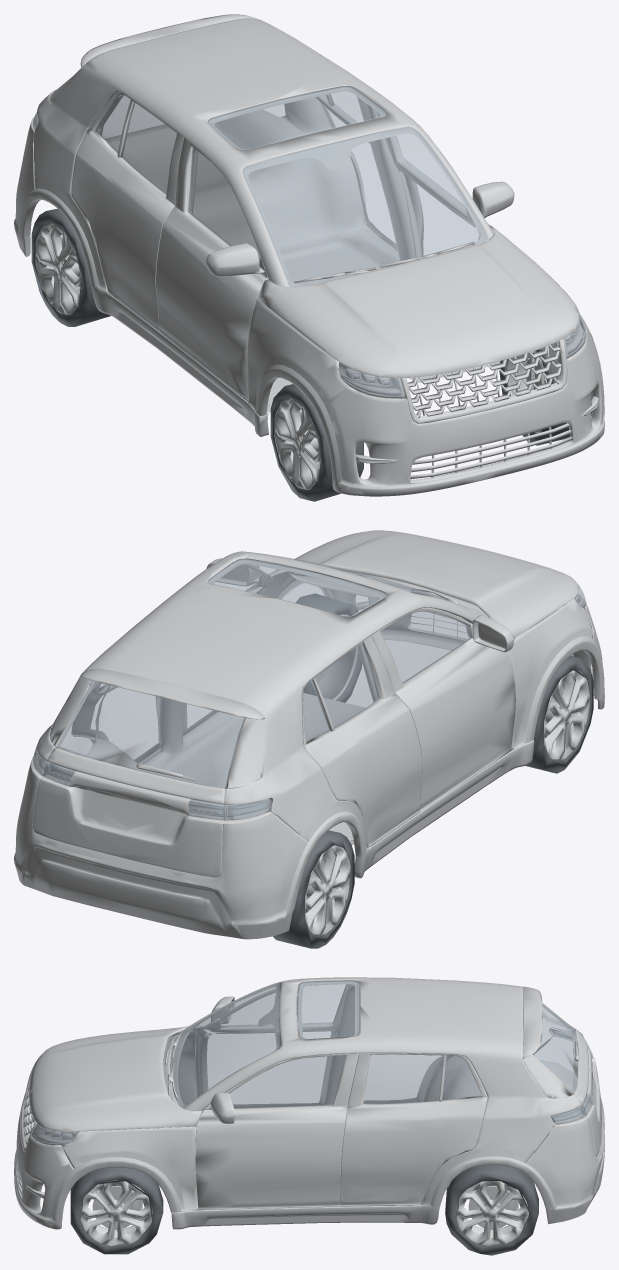
File: suv.glb
3 renders of one model, top to bottom at view 1: azimuth 30°, elevation 25°; view 2: azimuth 150°, elevation 25°; view 3: azimuth 270°, elevation 25°, orthographic. The views are drawn at different scales.
Parts seen in each view (by area): view 1: brake-caliper-fl_wheels-brakes_0, taillight-body-cover-right_glass-headlight-cover_0, taillight-body-back-right_black-plastic-glossy_0, tire-low-fl_tire-low_0; view 2: brake-caliper-fl_wheels-brakes_0, taillight-body-cover-right_glass-headlight-cover_0, tire-low-fl_tire-low_0, taillight-body-back-right_black-plastic-glossy_0; view 3: brake-caliper-fl_wheels-brakes_0, taillight-body-cover-right_glass-headlight-cover_0, tire-low-fl_tire-low_0, taillight-body-back-right_black-plastic-glossy_0.
Part boxes in pixels (x1=…): brake-caliper-fl_wheels-brakes_0: x1=14, y1=14, x2=604, y2=496; taillight-body-cover-right_glass-headlight-cover_0: x1=33, y1=76, x2=586, y2=398; taillight-body-back-right_black-plastic-glossy_0: x1=294, y1=241, x2=598, y2=479; tire-low-fl_tire-low_0: x1=31, y1=208, x2=592, y2=501; brake-caliper-fl_wheels-brakes_0: x1=14, y1=530, x2=604, y2=939; taillight-body-cover-right_glass-headlight-cover_0: x1=33, y1=553, x2=586, y2=820; tire-low-fl_tire-low_0: x1=273, y1=593, x2=593, y2=948; taillight-body-back-right_black-plastic-glossy_0: x1=40, y1=565, x2=584, y2=816; brake-caliper-fl_wheels-brakes_0: x1=14, y1=977, x2=604, y2=1246; taillight-body-cover-right_glass-headlight-cover_0: x1=31, y1=980, x2=592, y2=1145; tire-low-fl_tire-low_0: x1=70, y1=1128, x2=538, y2=1255; taillight-body-back-right_black-plastic-glossy_0: x1=17, y1=1001, x2=592, y2=1198.
Size of the model in its own units: 1.95 by 1.56 by 4.19.
